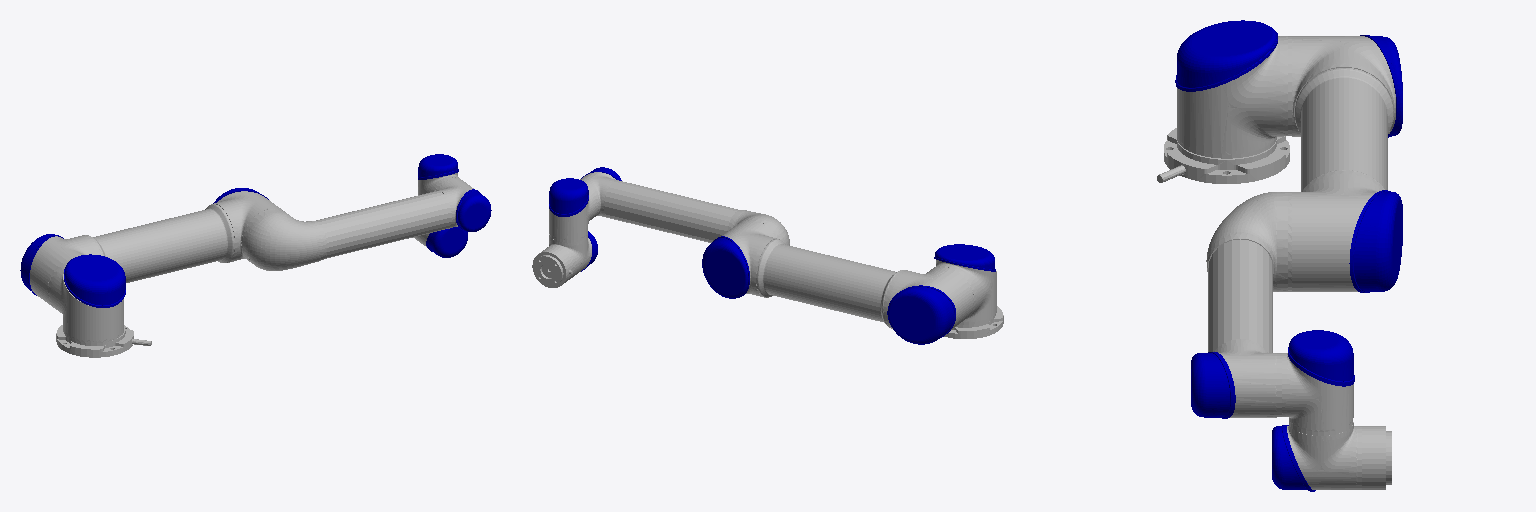
The robot description file, URDF, robot "scr5_description":
<robot
  name="scr5_description">
  <link
    name="base_link">
    <inertial>
      <origin
        xyz="0.00356075417197677 -0.000529110423215357 0.0108757611721975"
        rpy="0 0 0" />
      <mass
        value="0.348612004472702" />
      <inertia
        ixx="0.000442748050806661"
        ixy="1.45112821481914E-05"
        ixz="4.5817878730547E-07"
        iyy="0.000442892071615718"
        iyz="-3.81710317678014E-07"
        izz="0.000854761866924042" />
    </inertial>
    <visual>
      <origin
        xyz="0 0 0"
        rpy="0 0 0" />
      <geometry>
        <mesh
          filename="package://scr5_description/meshes/base_link.STL" />
      </geometry>
      <material
        name="">
        <color
          rgba="0.752941176470588 0.752941176470588 0.752941176470588 1" />
      </material>
    </visual>
    <collision>
      <origin
        xyz="0 0 0"
        rpy="0 0 0" />
      <geometry>
        <mesh
          filename="package://scr5_description/meshes/base_link.STL" />
      </geometry>
    </collision>
  </link>
  <link
    name="Link1">
    <inertial>
      <origin
        xyz="2.28451084816495E-06 0.0134385752592176 -0.01222700825931"
        rpy="0 0 0" />
      <mass
        value="1.27000869895626" />
      <inertia
        ixx="0.00256054716136561"
        ixy="2.19590799195399E-08"
        ixz="-5.20550232753587E-08"
        iyy="0.00230175008541621"
        iyz="-0.000346986406544973"
        izz="0.00257441561390502" />
    </inertial>
    <visual>
      <origin
        xyz="0 0 0"
        rpy="0 0 0" />
      <geometry>
        <mesh
          filename="package://scr5_description/meshes/Link1.STL" />
      </geometry>
      <material
        name="">
        <color
          rgba="0.752941176470588 0.752941176470588 0.752941176470588 1" />
      </material>
    </visual>
    <collision>
      <origin
        xyz="0 0 0"
        rpy="0 0 0" />
      <geometry>
        <mesh
          filename="package://scr5_description/meshes/Link1.STL" />
      </geometry>
    </collision>
  </link>
  <joint
    name="Joint1"
    type="revolute">
    <origin
      xyz="0 0 0.0892"
      rpy="0 0 0" />
    <parent
      link="base_link" />
    <child
      link="Link1" />
    <axis
      xyz="0 0 1" />
    <limit
      lower="-3"
      upper="3"
      effort="3"
      velocity="3" />
    <dynamics damping="0.0" friction="0.0"/>
  </joint>
  <link
    name="Link2">
    <inertial>
      <origin
        xyz="0.21250000012473 -0.00644152858656682 8.10992939470623E-12"
        rpy="0 0 0" />
      <mass
        value="4.82134223867609" />
      <inertia
        ixx="0.00771149023191162"
        ixy="-2.91688762987102E-11"
        ixz="1.19901783444831E-06"
        iyy="0.123074537381337"
        iyz="-2.03414959269536E-12"
        izz="0.123226479019875" />
    </inertial>
    <visual>
      <origin
        xyz="0 0 0"
        rpy="0 0 0" />
      <geometry>
        <mesh
          filename="package://scr5_description/meshes/Link2.STL" />
      </geometry>
      <material
        name="">
        <color
          rgba="0.752941176470588 0.752941176470588 0.752941176470588 1" />
      </material>
    </visual>
    <collision>
      <origin
        xyz="0 0 0"
        rpy="0 0 0" />
      <geometry>
        <mesh
          filename="package://scr5_description/meshes/Link2.STL" />
      </geometry>
    </collision>
  </link>
  <joint
    name="Joint2"
    type="revolute">
    <origin
      xyz="0 0.1357 0"
      rpy="0 0 0" />
    <parent
      link="Link1" />
    <child
      link="Link2" />
    <axis
      xyz="0 1 0" />
    <limit
      lower="-3"
      upper="0.1"
      effort="3"
      velocity="3" />
  </joint>
  <link
    name="Link3">
    <inertial>
      <origin
        xyz="0.171467266833041 0.00699880290512728 7.45875599825196E-07"
        rpy="0 0 0" />
      <mass
        value="2.37403786053391" />
      <inertia
        ixx="0.00223908367637026"
        ixy="0.00143634373319063"
        ixz="9.39329729652002E-08"
        iyy="0.0483049711092205"
        iyz="2.66298976334624E-09"
        izz="0.0483725289156919" />
    </inertial>
    <visual>
      <origin
        xyz="0 0 0"
        rpy="0 0 0" />
      <geometry>
        <mesh
          filename="package://scr5_description/meshes/Link3.STL" />
      </geometry>
      <material
        name="">
        <color
          rgba="0.752941176470588 0.752941176470588 0.752941176470588 1" />
      </material>
    </visual>
    <collision>
      <origin
        xyz="0 0 0"
        rpy="0 0 0" />
      <geometry>
        <mesh
          filename="package://scr5_description/meshes/Link3.STL" />
      </geometry>
    </collision>
  </link>
  <joint
    name="Joint3"
    type="revolute">
    <origin
      xyz="0.425 -0.1197 0"
      rpy="0 0 0" />
    <parent
      link="Link2" />
    <child
      link="Link3" />
    <axis
      xyz="0 1 0" />
    <limit
      lower="-3"
      upper="3"
      effort="3"
      velocity="3" />
  </joint>
  <link
    name="Link4">
    <inertial>
      <origin
        xyz="-0.000101410600967466 0.0851220204121935 -0.00985518759950316"
        rpy="0 0 0" />
      <mass
        value="0.371768379208516" />
      <inertia
        ixx="0.000336348974064035"
        ixy="-3.06042904952292E-09"
        ixz="-1.58952308719623E-09"
        iyy="0.000304909157025707"
        iyz="4.45606278330748E-05"
        izz="0.00031301327146741" />
    </inertial>
    <visual>
      <origin
        xyz="0 0 0"
        rpy="0 0 0" />
      <geometry>
        <mesh
          filename="package://scr5_description/meshes/Link4.STL" />
      </geometry>
      <material
        name="">
        <color
          rgba="0.752941176470588 0.752941176470588 0.752941176470588 1" />
      </material>
    </visual>
    <collision>
      <origin
        xyz="0 0 0"
        rpy="0 0 0" />
      <geometry>
        <mesh
          filename="package://scr5_description/meshes/Link4.STL" />
      </geometry>
    </collision>
  </link>
  <joint
    name="Joint4"
    type="revolute">
    <origin
      xyz="0.39243 0 0"
      rpy="0 0 0" />
    <parent
      link="Link3" />
    <child
      link="Link4" />
    <axis
      xyz="0 1 0" />
    <limit
      lower="-3"
      upper="3"
      effort="3"
      velocity="3" />
  </joint>
  <link
    name="Link5">
    <inertial>
      <origin
        xyz="0.000101410600967355 0.00985518759950316 -0.0851220204121934"
        rpy="0 0 0" />
      <mass
        value="0.371768379208516" />
      <inertia
        ixx="0.000336348974064035"
        ixy="-1.58952308822099E-09"
        ixz="-3.06042904950114E-09"
        iyy="0.00031301327146741"
        iyz="4.45606278330746E-05"
        izz="0.000304909157025707" />
    </inertial>
    <visual>
      <origin
        xyz="0 0 0"
        rpy="0 0 0" />
      <geometry>
        <mesh
          filename="package://scr5_description/meshes/Link5.STL" />
      </geometry>
      <material
        name="">
        <color
          rgba="0.752941176470588 0.752941176470588 0.752941176470588 1" />
      </material>
    </visual>
    <collision>
      <origin
        xyz="0 0 0"
        rpy="0 0 0" />
      <geometry>
        <mesh
          filename="package://scr5_description/meshes/Link5.STL" />
      </geometry>
    </collision>
  </link>
  <joint
    name="Joint5"
    type="revolute">
    <origin
      xyz="0 0.093 0"
      rpy="0 0 0" />
    <parent
      link="Link4" />
    <child
      link="Link5" />
    <axis
      xyz="0 0 -1" />
    <limit
      lower="-3"
      upper="3"
      effort="3"
      velocity="3" />
  </joint>
  <link
    name="Link6">
    <inertial>
      <origin
        xyz="-0.000189982331376459 0.0632649389615557 9.62807481311168E-12"
        rpy="0 0 0" />
      <mass
        value="0.139070793351925" />
      <inertia
        ixx="5.95495544713425E-05"
        ixy="-2.02101857982597E-08"
        ixz="5.71614830905989E-14"
        iyy="9.58937815407397E-05"
        iyz="6.51561948574825E-14"
        izz="6.02481762886513E-05" />
    </inertial>
    <visual>
      <origin
        xyz="0 0 0"
        rpy="0 0 0" />
      <geometry>
        <mesh
          filename="package://scr5_description/meshes/Link6.STL" />
      </geometry>
      <material
        name="">
        <color
          rgba="0.752941176470588 0.752941176470588 0.752941176470588 1" />
      </material>
    </visual>
    <collision>
      <origin
        xyz="0 0 0"
        rpy="0 0 0" />
      <geometry>
        <mesh
          filename="package://scr5_description/meshes/Link6.STL" />
      </geometry>
    </collision>
  </link>
  <joint
    name="Joint6"
    type="revolute">
    <origin
      xyz="0 0 -0.093"
      rpy="0 0 0" />
    <parent
      link="Link5" />
    <child
      link="Link6" />
    <axis
      xyz="0 1 0" />
    <limit
      lower="-4"
      upper="3"
      effort="3"
      velocity="3" />
  </joint>
  <link
    name="LinkEnd" />
  <joint
    name="Eff"
    type="fixed">
    <origin
      xyz="0 0 0"
      rpy="0 0 0" />
    <parent
      link="Link6" />
    <child
      link="LinkEnd" />
    <axis
      xyz="0 0 0" />
  </joint>
  <link
    name="LinkLid6">
    <inertial>
      <origin
        xyz="0.00010009573976133 -0.0380812283332205 -0.0970713854311271"
        rpy="0 0 0" />
      <mass
        value="0.144578380149003" />
      <inertia
        ixx="6.51792903612742E-05"
        ixy="9.66461182462837E-11"
        ixz="-4.53450560851049E-11"
        iyy="9.63783060714846E-05"
        iyz="1.21979820648802E-05"
        izz="6.77847991037175E-05" />
    </inertial>
    <visual>
      <origin
        xyz="0 0 0"
        rpy="0 0 0" />
      <geometry>
        <mesh
          filename="package://scr5_description/meshes/LinkLid6.STL" />
      </geometry>
      <material
        name="">
        <color
          rgba="0.0 0.0 0.752941176470588 1" />
      </material>
    </visual>
    <collision>
      <origin
        xyz="0 0 0"
        rpy="0 0 0" />
      <geometry>
        <mesh
          filename="package://scr5_description/meshes/LinkLid6.STL" />
      </geometry>
    </collision>
  </link>
  <joint
    name="JointLid6"
    type="fixed">
    <origin
      xyz="0 0 0"
      rpy="0 0 0" />
    <parent
      link="Link5" />
    <child
      link="LinkLid6" />
    <axis
      xyz="0 0 0" />
  </joint>
  <link
    name="LinkLid5">
    <inertial>
      <origin
        xyz="-0.00010009573976133 0.0970713854311272 0.0380812283332207"
        rpy="0 0 0" />
      <mass
        value="0.144578380149002" />
      <inertia
        ixx="6.51792903612726E-05"
        ixy="-4.53450560768908E-11"
        ixz="9.66461185303678E-11"
        iyy="6.77847991037169E-05"
        iyz="1.21979820648802E-05"
        izz="9.63783060714828E-05" />
    </inertial>
    <visual>
      <origin
        xyz="0 0 0"
        rpy="0 0 0" />
      <geometry>
        <mesh
          filename="package://scr5_description/meshes/LinkLid5.STL" />
      </geometry>
      <material
        name="">
        <color
          rgba="0.0 0.0 0.752941176470588 1" />
      </material>
    </visual>
    <collision>
      <origin
        xyz="0 0 0"
        rpy="0 0 0" />
      <geometry>
        <mesh
          filename="package://scr5_description/meshes/LinkLid5.STL" />
      </geometry>
    </collision>
  </link>
  <joint
    name="JointLid5"
    type="fixed">
    <origin
      xyz="0 0 0"
      rpy="0 0 0" />
    <parent
      link="Link4" />
    <child
      link="LinkLid5" />
    <axis
      xyz="0 0 0" />
  </joint>
  <link
    name="LinkLid4">
    <inertial>
      <origin
        xyz="0.396501385431127 -0.0380813334320837 -6.05774216067001E-08"
        rpy="0 0 0" />
      <mass
        value="0.144578380149003" />
      <inertia
        ixx="6.77847991037173E-05"
        ixy="-1.21979820648803E-05"
        ixz="4.53450562252114E-11"
        iyy="9.63783060714839E-05"
        iyz="9.66461180388092E-11"
        izz="6.51792903612734E-05" />
    </inertial>
    <visual>
      <origin
        xyz="0 0 0"
        rpy="0 0 0" />
      <geometry>
        <mesh
          filename="package://scr5_description/meshes/LinkLid4.STL" />
      </geometry>
      <material
        name="">
        <color
          rgba="0.0 0.0 0.752941176470588 1" />
      </material>
    </visual>
    <collision>
      <origin
        xyz="0 0 0"
        rpy="0 0 0" />
      <geometry>
        <mesh
          filename="package://scr5_description/meshes/LinkLid4.STL" />
      </geometry>
    </collision>
  </link>
  <joint
    name="JointLid4"
    type="fixed">
    <origin
      xyz="0 0 0"
      rpy="0 0 0" />
    <parent
      link="Link3" />
    <child
      link="LinkLid4" />
    <axis
      xyz="0 0 0" />
  </joint>
  <link
    name="LinkLid2">
    <inertial>
      <origin
        xyz="-0.00939377496427008 0.044116313837089 -6.40447749417072E-08"
        rpy="0 0 0" />
      <mass
        value="0.285968292894263" />
      <inertia
        ixx="0.000278953027758872"
        ixy="-6.64254662128654E-05"
        ixz="-3.598294519826E-09"
        iyy="0.000443683499639582"
        iyz="-9.45328227718526E-10"
        izz="0.000253974178316293" />
    </inertial>
    <visual>
      <origin
        xyz="0 0 0"
        rpy="0 0 0" />
      <geometry>
        <mesh
          filename="package://scr5_description/meshes/LinkLid2.STL" />
      </geometry>
      <material
        name="">
        <color
          rgba="0.0 0.0 0.752941176470588 1" />
      </material>
    </visual>
    <collision>
      <origin
        xyz="0 0 0"
        rpy="0 0 0" />
      <geometry>
        <mesh
          filename="package://scr5_description/meshes/LinkLid2.STL" />
      </geometry>
    </collision>
  </link>
  <joint
    name="JointLid2"
    type="fixed">
    <origin
      xyz="0 0 0"
      rpy="0 0 0" />
    <parent
      link="Link2" />
    <child
      link="LinkLid2" />
    <axis
      xyz="0 0 0" />
  </joint>
  <link
    name="LinkLid3">
    <inertial>
      <origin
        xyz="0.43439377496427 0.0441163138370891 6.40447751915074E-08"
        rpy="0 0 0" />
      <mass
        value="0.285968292894263" />
      <inertia
        ixx="0.000278953027758872"
        ixy="6.64254662128658E-05"
        ixz="-3.59829451973986E-09"
        iyy="0.00044368349963958"
        iyz="9.45328227448044E-10"
        izz="0.000253974178316291" />
    </inertial>
    <visual>
      <origin
        xyz="0 0 0"
        rpy="0 0 0" />
      <geometry>
        <mesh
          filename="package://scr5_description/meshes/LinkLid3.STL" />
      </geometry>
      <material
        name="">
        <color
          rgba="0.0 0.0 0.752941176470588 1" />
      </material>
    </visual>
    <collision>
      <origin
        xyz="0 0 0"
        rpy="0 0 0" />
      <geometry>
        <mesh
          filename="package://scr5_description/meshes/LinkLid3.STL" />
      </geometry>
    </collision>
  </link>
  <joint
    name="JointLid3"
    type="fixed">
    <origin
      xyz="0 0 0"
      rpy="0 0 0" />
    <parent
      link="Link2" />
    <child
      link="LinkLid3" />
    <axis
      xyz="0 0 0" />
  </joint>
  <link
    name="LinkLid1">
    <inertial>
      <origin
        xyz="-6.40447750141319E-08 -0.00939377496427015 0.0441163138370891"
        rpy="0 0 0" />
      <mass
        value="0.285968292894263" />
      <inertia
        ixx="0.000253974178316292"
        ixy="-3.59829451961607E-09"
        ixz="-9.45328227740967E-10"
        iyy="0.000278953027758873"
        iyz="-6.64254662128655E-05"
        izz="0.000443683499639581" />
    </inertial>
    <visual>
      <origin
        xyz="0 0 0"
        rpy="0 0 0" />
      <geometry>
        <mesh
          filename="package://scr5_description/meshes/LinkLid1.STL" />
      </geometry>
      <material
        name="">
        <color
          rgba="0.0 0.0 0.752941176470588 1" />
      </material>
    </visual>
    <collision>
      <origin
        xyz="0 0 0"
        rpy="0 0 0" />
      <geometry>
        <mesh
          filename="package://scr5_description/meshes/LinkLid1.STL" />
      </geometry>
    </collision>
  </link>
  <joint
    name="JointLid1"
    type="fixed">
    <origin
      xyz="0.003 0 0.0"
      rpy="0 0 0" />
    <parent
      link="Link1" />
    <child
      link="LinkLid1" />
    <axis
      xyz="0 0 0" />
  </joint>
</robot>

--- Render facts (derived) ---
The picture shows the robot from 3 angles, left to right: view 1: azimuth 30°, elevation 25°; view 2: azimuth 150°, elevation 25°; view 3: azimuth 270°, elevation 25°; orthographic projection.
Robot: scr5_description — 14 links, 13 joints (6 revolute, 7 fixed); root link base_link; default pose: every joint at zero.
Links seen in each view (by area): view 1: Link2, Link3, Link1, LinkLid1, base_link, LinkLid4, LinkLid6, LinkLid5, LinkLid2; view 2: Link2, Link3, LinkLid2, LinkLid3, Link1, LinkLid5, Link6, Link4, LinkLid1, base_link, Link5; view 3: Link2, Link3, Link1, LinkLid1, LinkLid3, Link4, Link5, base_link, LinkLid5, LinkLid4, Link6, LinkLid6 (+1 smaller).
Link boxes in pixels (x1,y1,x2,y2): Link2: [30, 191, 284, 307]; Link3: [243, 177, 473, 270]; Link1: [49, 259, 123, 342]; LinkLid1: [64, 254, 125, 307]; base_link: [56, 325, 151, 357]; LinkLid4: [456, 189, 491, 231]; LinkLid6: [426, 227, 467, 257]; LinkLid5: [418, 154, 458, 179]; LinkLid2: [20, 234, 63, 295]; Link2: [722, 220, 973, 329]; Link3: [580, 172, 789, 245]; LinkLid2: [887, 285, 955, 344]; LinkLid3: [702, 236, 749, 298]; Link1: [931, 260, 996, 324]; LinkLid5: [549, 178, 588, 216]; Link6: [532, 247, 572, 287]; Link4: [549, 189, 597, 242]; LinkLid1: [934, 244, 995, 271]; base_link: [944, 306, 1003, 338]; Link5: [547, 234, 591, 278]; Link2: [1288, 36, 1395, 291]; Link3: [1206, 192, 1287, 417]; Link1: [1177, 36, 1287, 158]; LinkLid1: [1175, 20, 1277, 91]; LinkLid3: [1349, 190, 1402, 292]; Link4: [1282, 353, 1353, 435]; Link5: [1287, 422, 1361, 489]; base_link: [1157, 128, 1289, 183]; LinkLid5: [1288, 330, 1354, 386]; LinkLid4: [1191, 352, 1235, 418]; Link6: [1362, 426, 1391, 489]; LinkLid6: [1272, 425, 1315, 491].
Size in the robot's own frame: 0.9268 by 0.2856 by 0.2003 metres.
13 mesh visuals loaded from 13 distinct referenced files (13 binary STL).